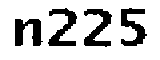2: (82, 4, 113, 51), (47, 4, 77, 50)
5: (117, 2, 150, 50)
n: (11, 15, 42, 50)
